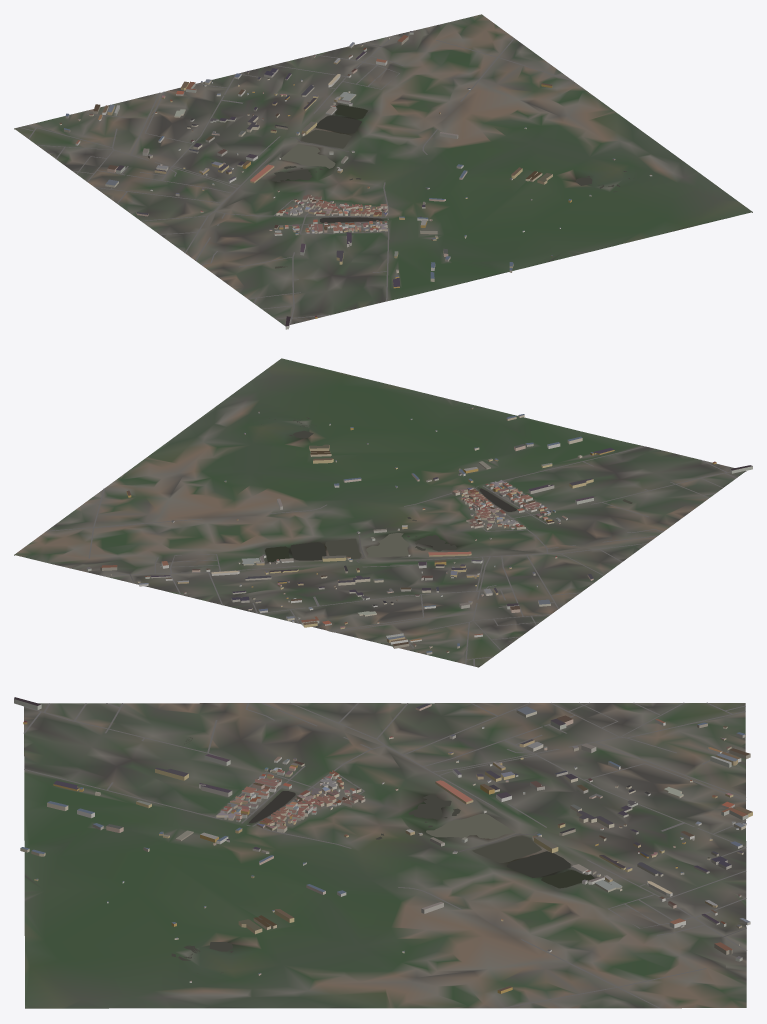
3 views of the same model, one above another, from view 1: azimuth 30°, elevation 25°; view 2: azimuth 150°, elevation 25°; view 3: azimuth 270°, elevation 25° (orthographic). The views are drawn at different scales.
Visible parts, largest first — view 1: ground, buildings, roads, water; view 2: ground, buildings, roads, water; view 3: ground, buildings, roads, water.
Boxes of the visible parts, x1,y1,x2,y2 form: ground: [14, 14, 752, 326]; buildings: [59, 31, 652, 329]; roads: [18, 35, 573, 324]; water: [271, 104, 633, 268]; ground: [14, 358, 746, 667]; buildings: [86, 407, 752, 654]; roads: [46, 446, 736, 666]; water: [261, 417, 632, 561]; ground: [24, 703, 746, 1008]; buildings: [14, 697, 752, 993]; roads: [23, 702, 746, 1008]; water: [171, 737, 594, 973].
Size of the model in its own units: 1410 by 13.84 by 1435.
